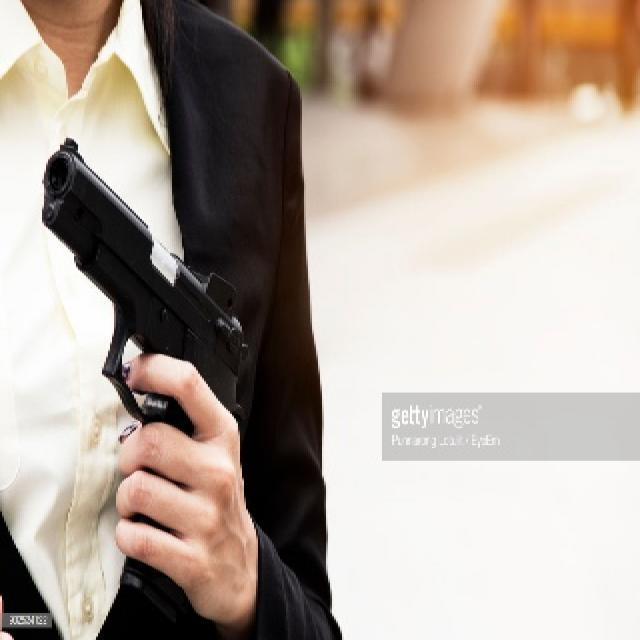weapon: (36, 132, 256, 457)
